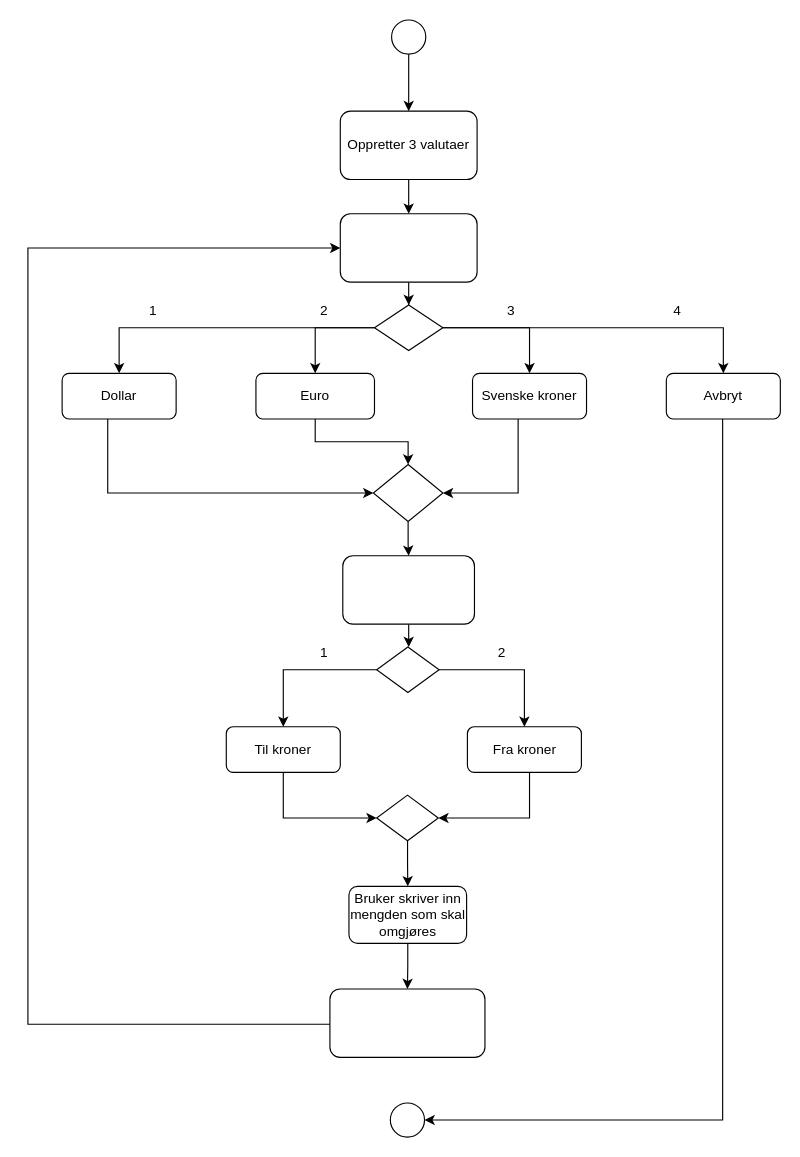
Image size: 800x1157. Some labels were removed from this diagram. The shapes that lost their labels are listed below. From the top down, each one's centre as x and y in pixels, then its label:
At (408,247): "Brukeren velger valuta".
At (408,589): "Bruker velger fra eller til kroner".
At (407,1022): "Gjør om mengden mht valgt valuta og til/fra kroner".
